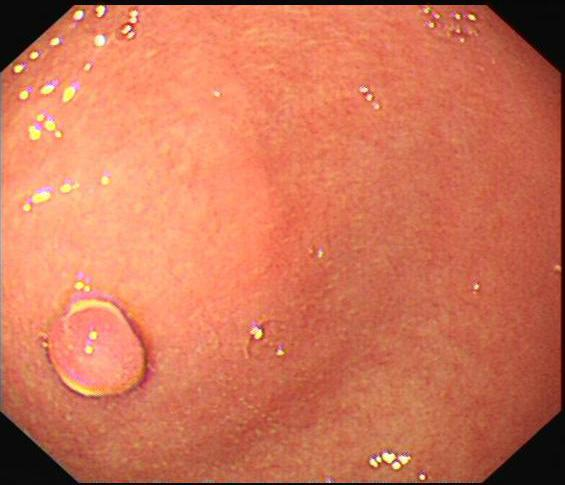Polyp: (44, 300, 155, 402)
